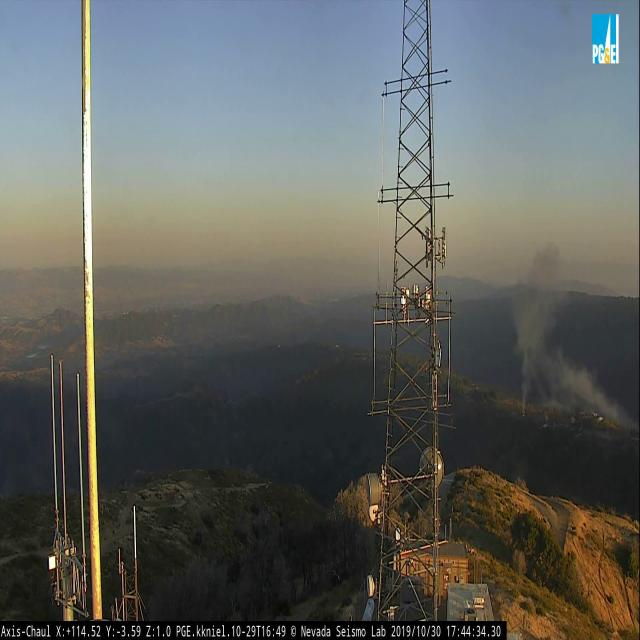smoke: (511, 237, 640, 433)
